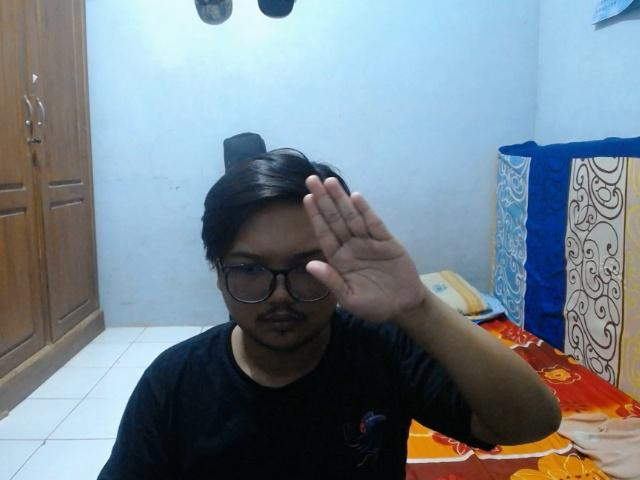Release: (298, 169, 428, 329)
